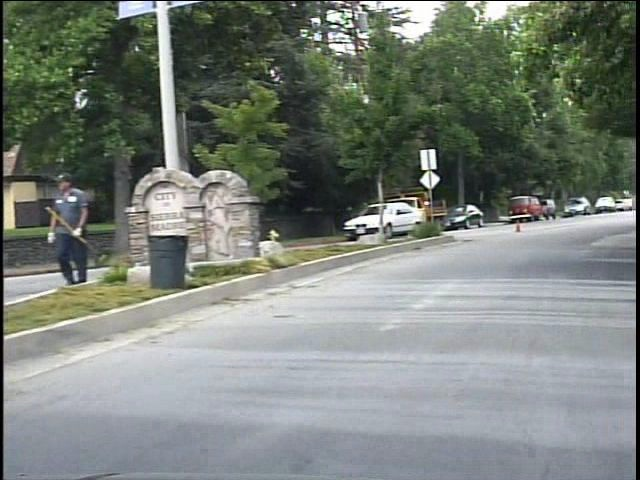person: (47, 167, 104, 291)
